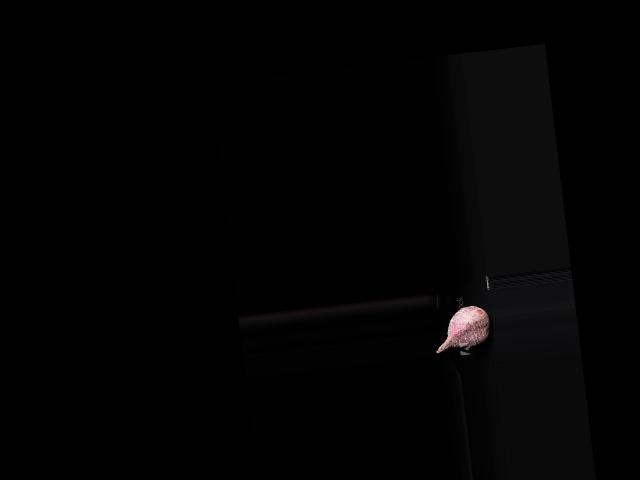beet: (431, 303, 492, 352)
